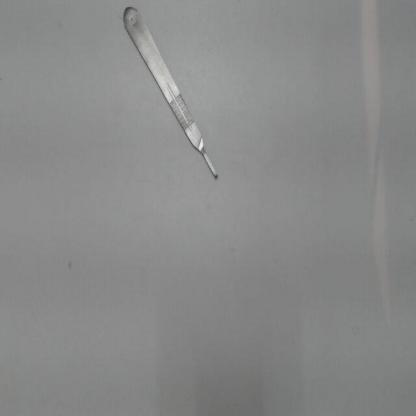No.3 BP Handle: (109, 0, 230, 196)
